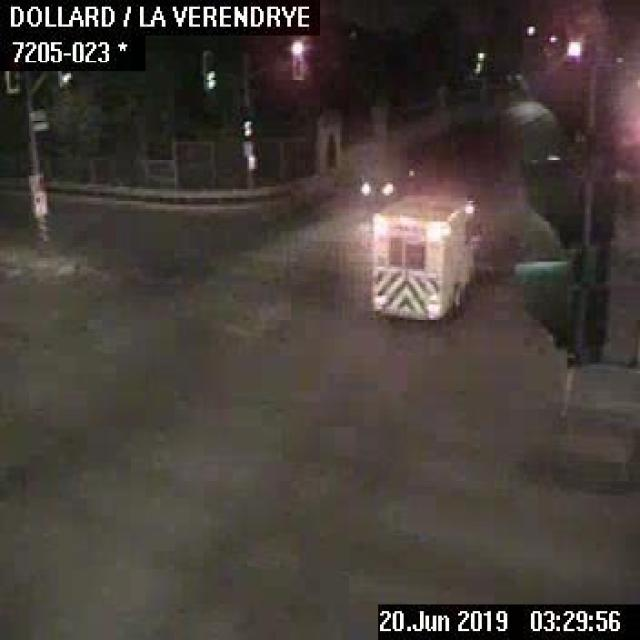vehicle: (367, 191, 495, 325), (356, 162, 422, 196)
